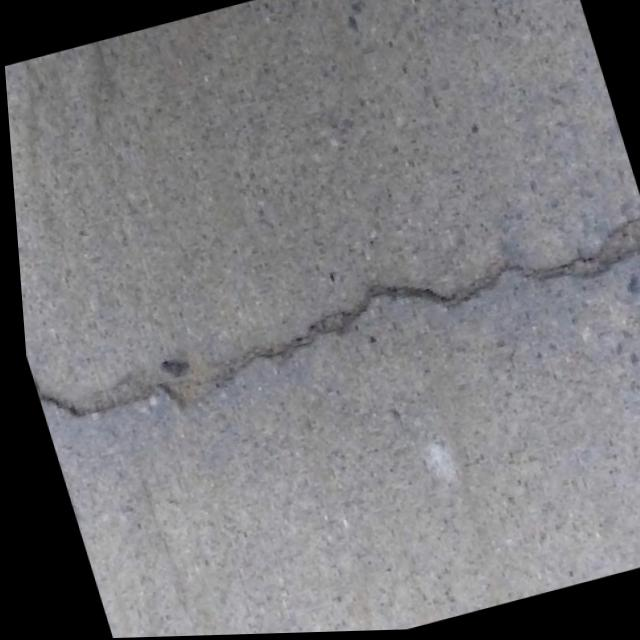Crack: (11, 176, 640, 469)
